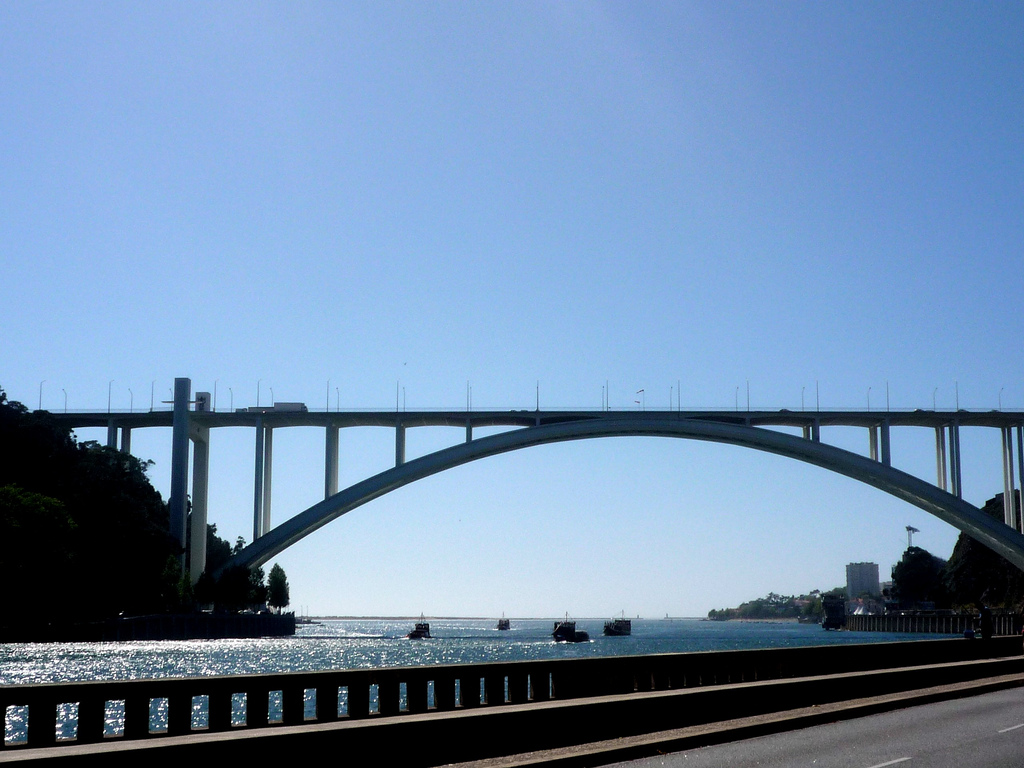arrabida: (0, 375, 1023, 605)
